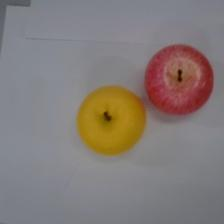red: (143, 43, 214, 116)
yellow: (76, 85, 146, 156)
